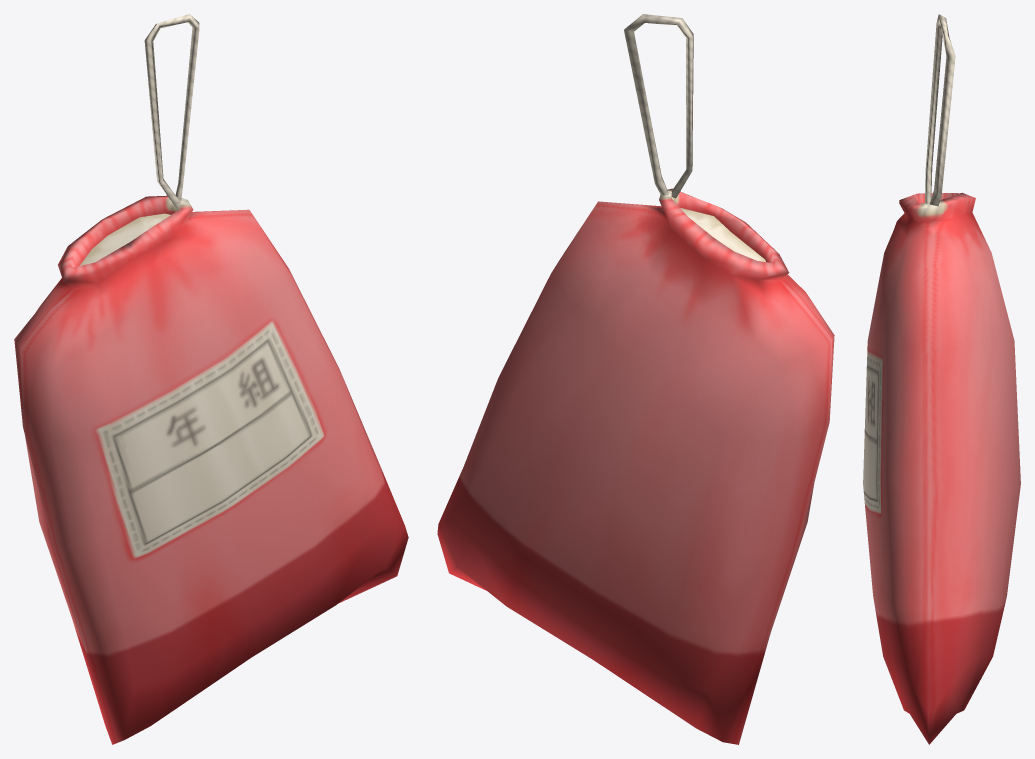
File: Bag_R_01_02.fbx
The picture shows the model from 3 angles, left to right: view 1: azimuth 30°, elevation 25°; view 2: azimuth 150°, elevation 25°; view 3: azimuth 270°, elevation 25°; orthographic projection.
Visible parts, largest first — view 1: bag_R_01_02; view 2: bag_R_01_02; view 3: bag_R_01_02.
Boxes of the visible parts, x1,y1,x2,y2 form: bag_R_01_02: [14, 14, 408, 744]; bag_R_01_02: [437, 14, 834, 744]; bag_R_01_02: [863, 14, 1020, 744].
Size of the model in its own units: 26.23 by 45.58 by 9.12.
